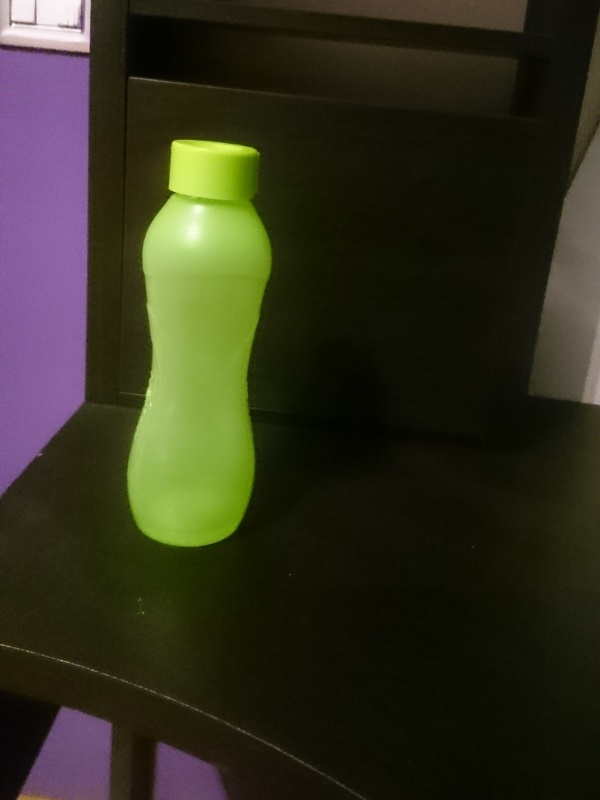my bottle: (123, 142, 270, 547)
